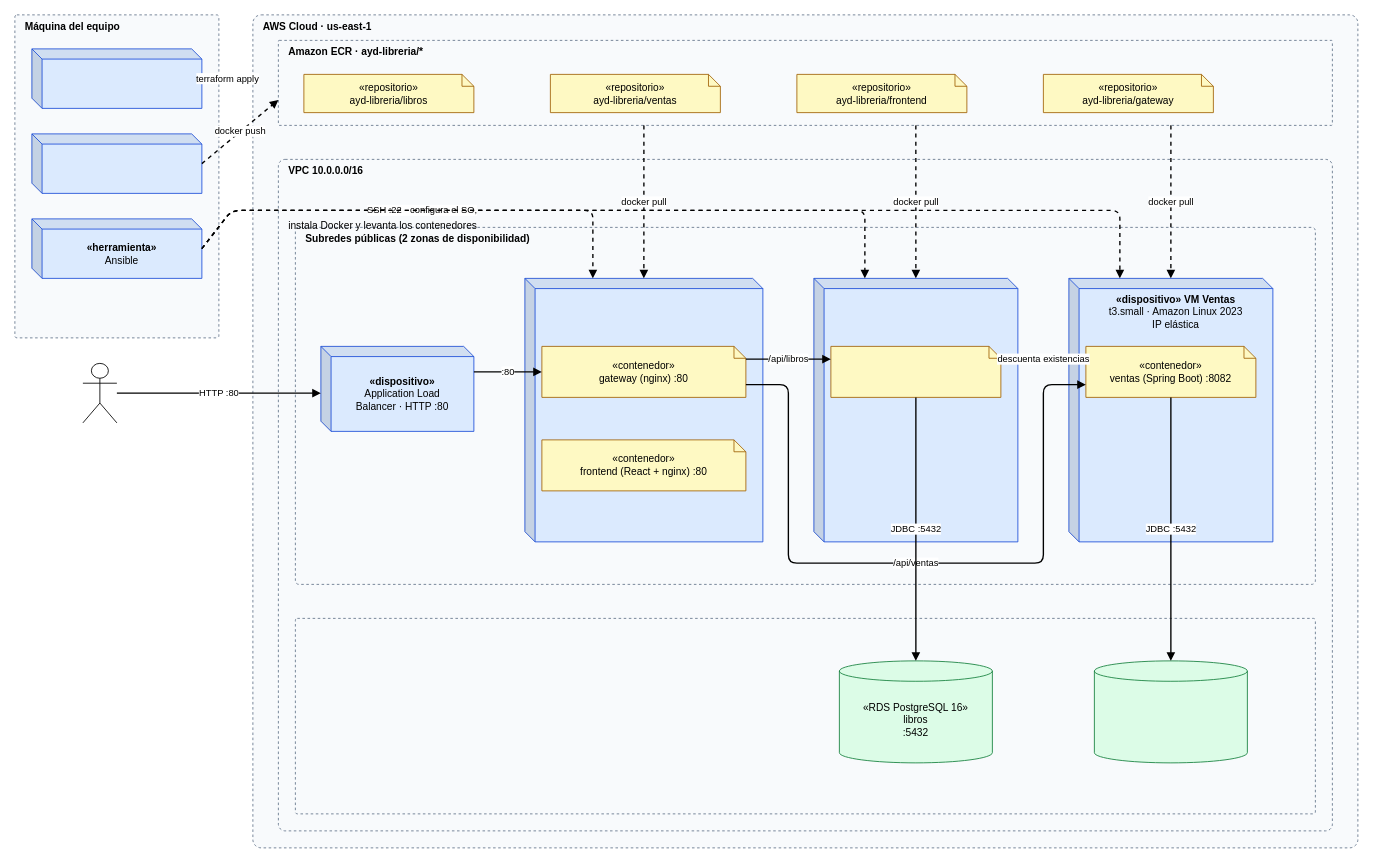
Image size: 1373x863. Some labels were removed from this diagram. Each missing label, with the box of its shape:
Subredes privadas (2 zonas de disponibilidad): (295, 618, 1315, 814)
Usuario: (82, 363, 117, 423)
«contenedor» libros (Spring Boot) :8081: (830, 346, 1001, 397)
«dispositivo» VM Frontend t3.small · Amazon Linux 2023 IP elástica: (524, 278, 763, 542)
«dispositivo» VM Libros t3.small · Amazon Linux 2023 IP elástica: (813, 278, 1018, 542)
«herramienta» Docker (build y push): (31, 133, 202, 193)
«herramienta» Terraform: (31, 48, 202, 108)
«RDS PostgreSQL 16» ventas :5432: (1094, 660, 1247, 763)
